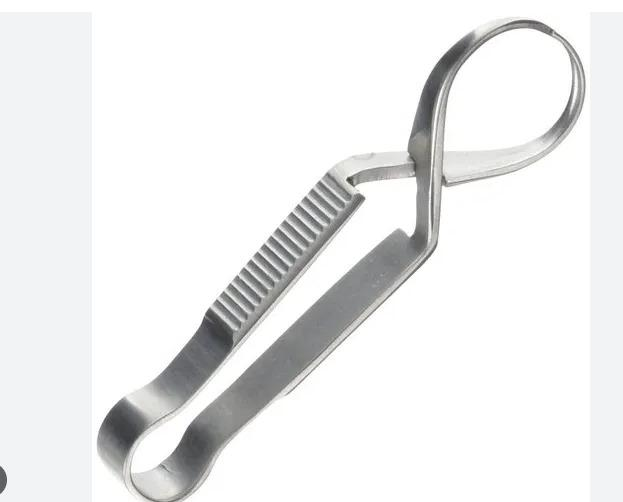Doyen Cross Action Towel Clamp: (89, 10, 589, 502)
